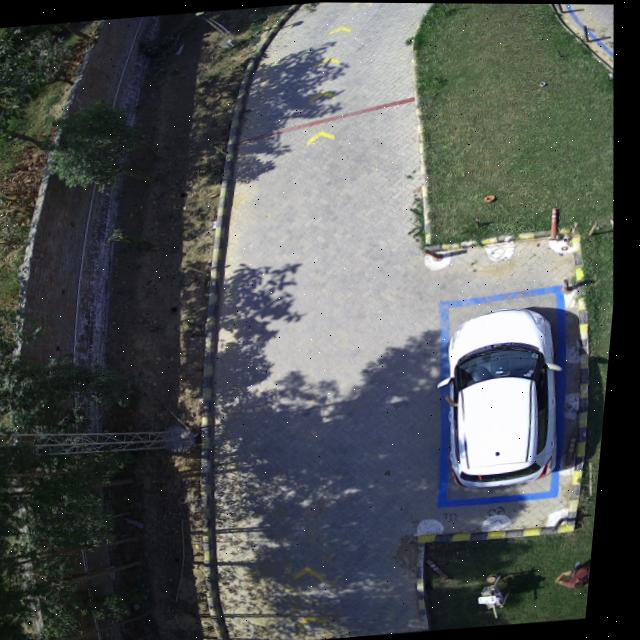car: (446, 306, 566, 486)
